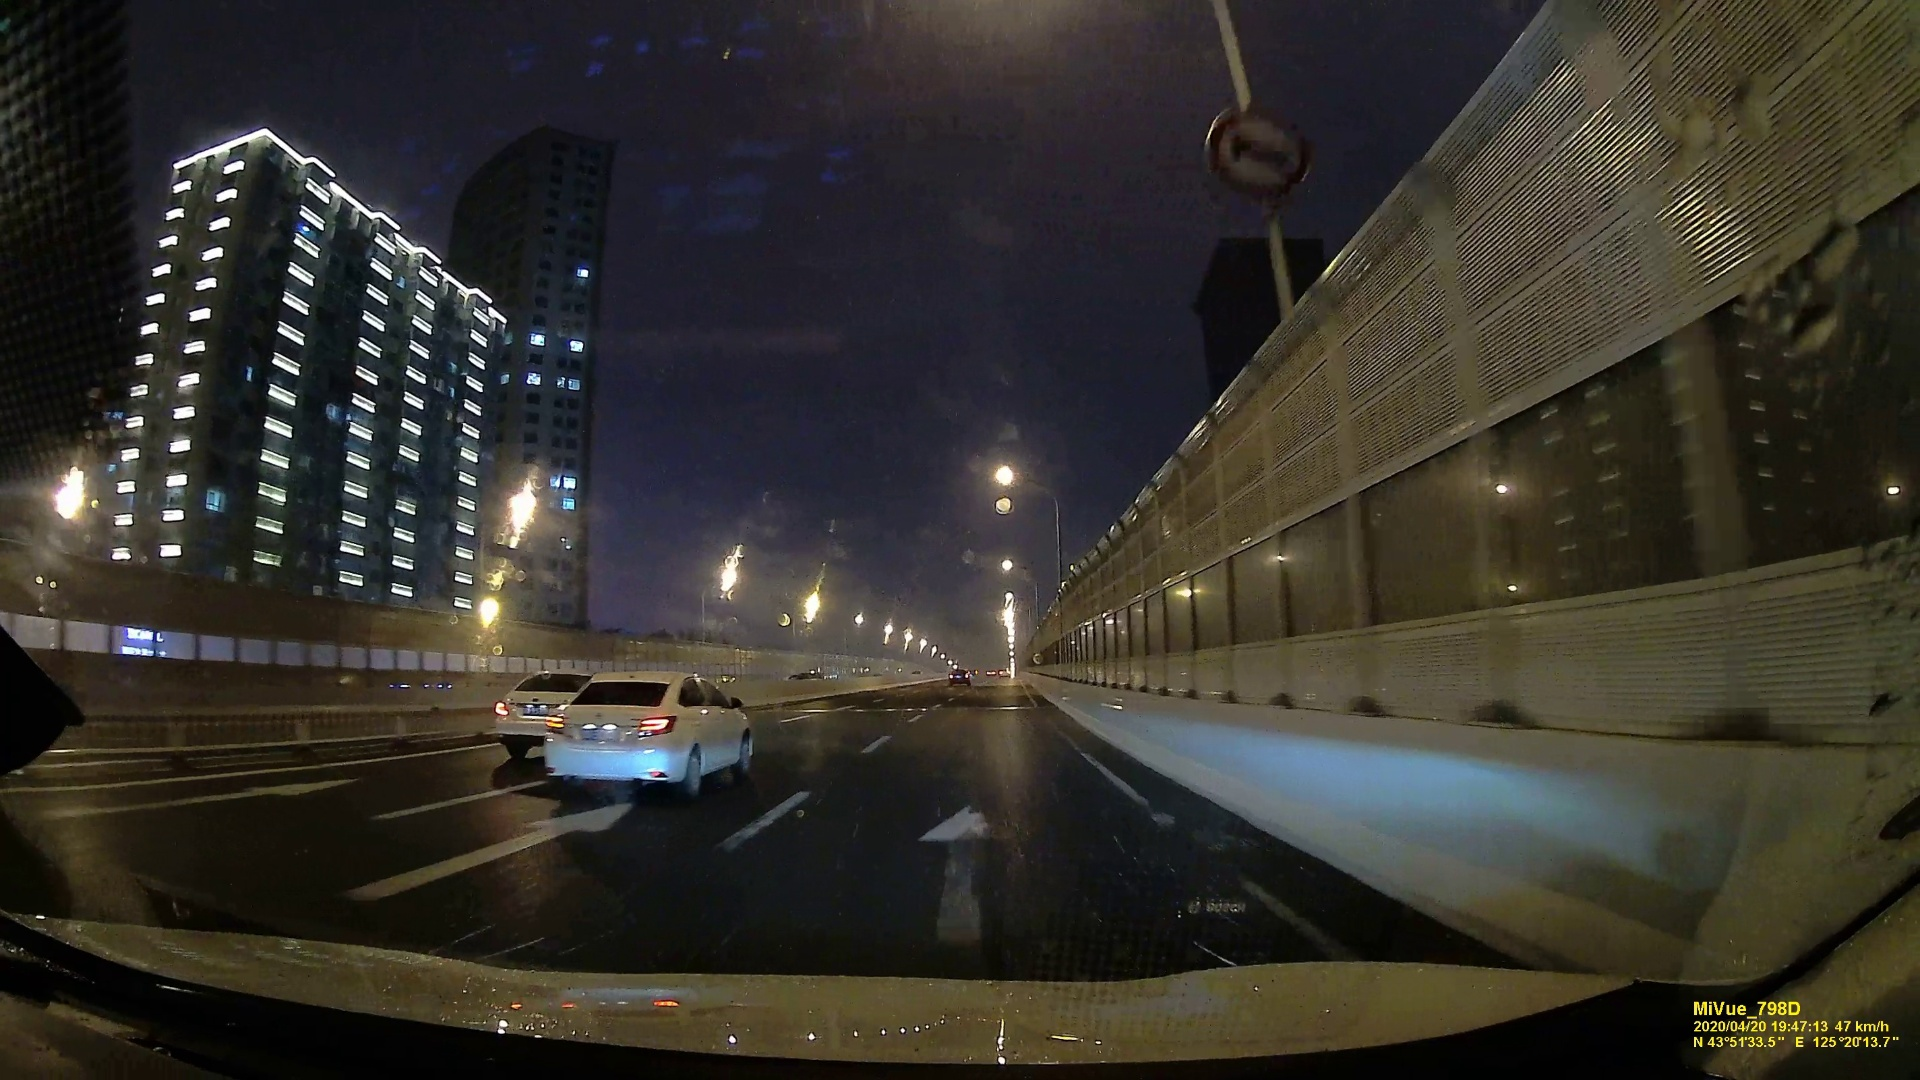traffic_sign: (1203, 99, 1305, 204)
vehicle: (545, 670, 756, 794), (489, 666, 587, 767), (947, 669, 971, 686)
